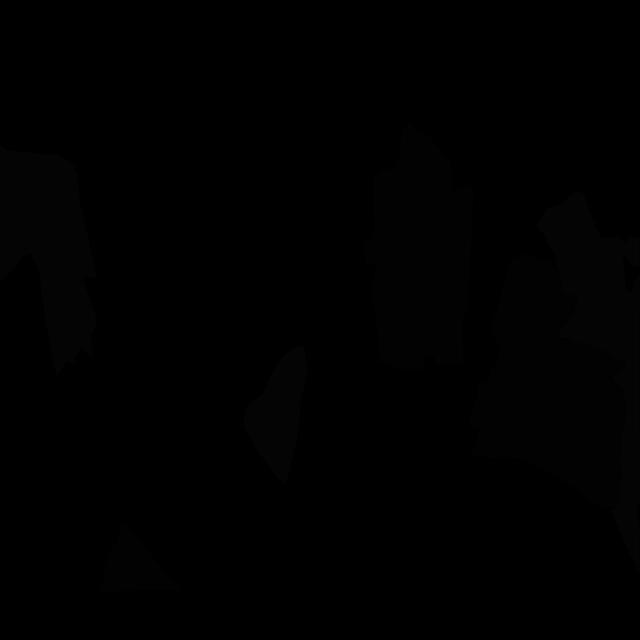cardboard: (364, 122, 474, 369), (468, 339, 626, 508), (490, 253, 577, 365), (99, 519, 182, 592)
soft_plastic: (0, 144, 98, 376), (536, 192, 640, 362), (244, 346, 308, 484), (611, 400, 640, 574), (611, 311, 640, 432), (623, 237, 640, 266)
